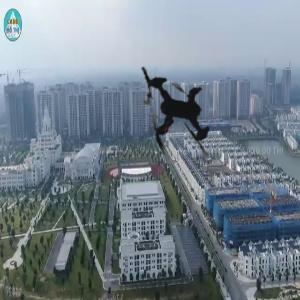drone: (98, 35, 254, 191)
